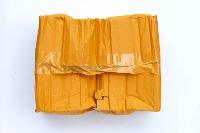damaged package: (83, 92, 105, 113)
undamaged: (33, 11, 163, 113)
